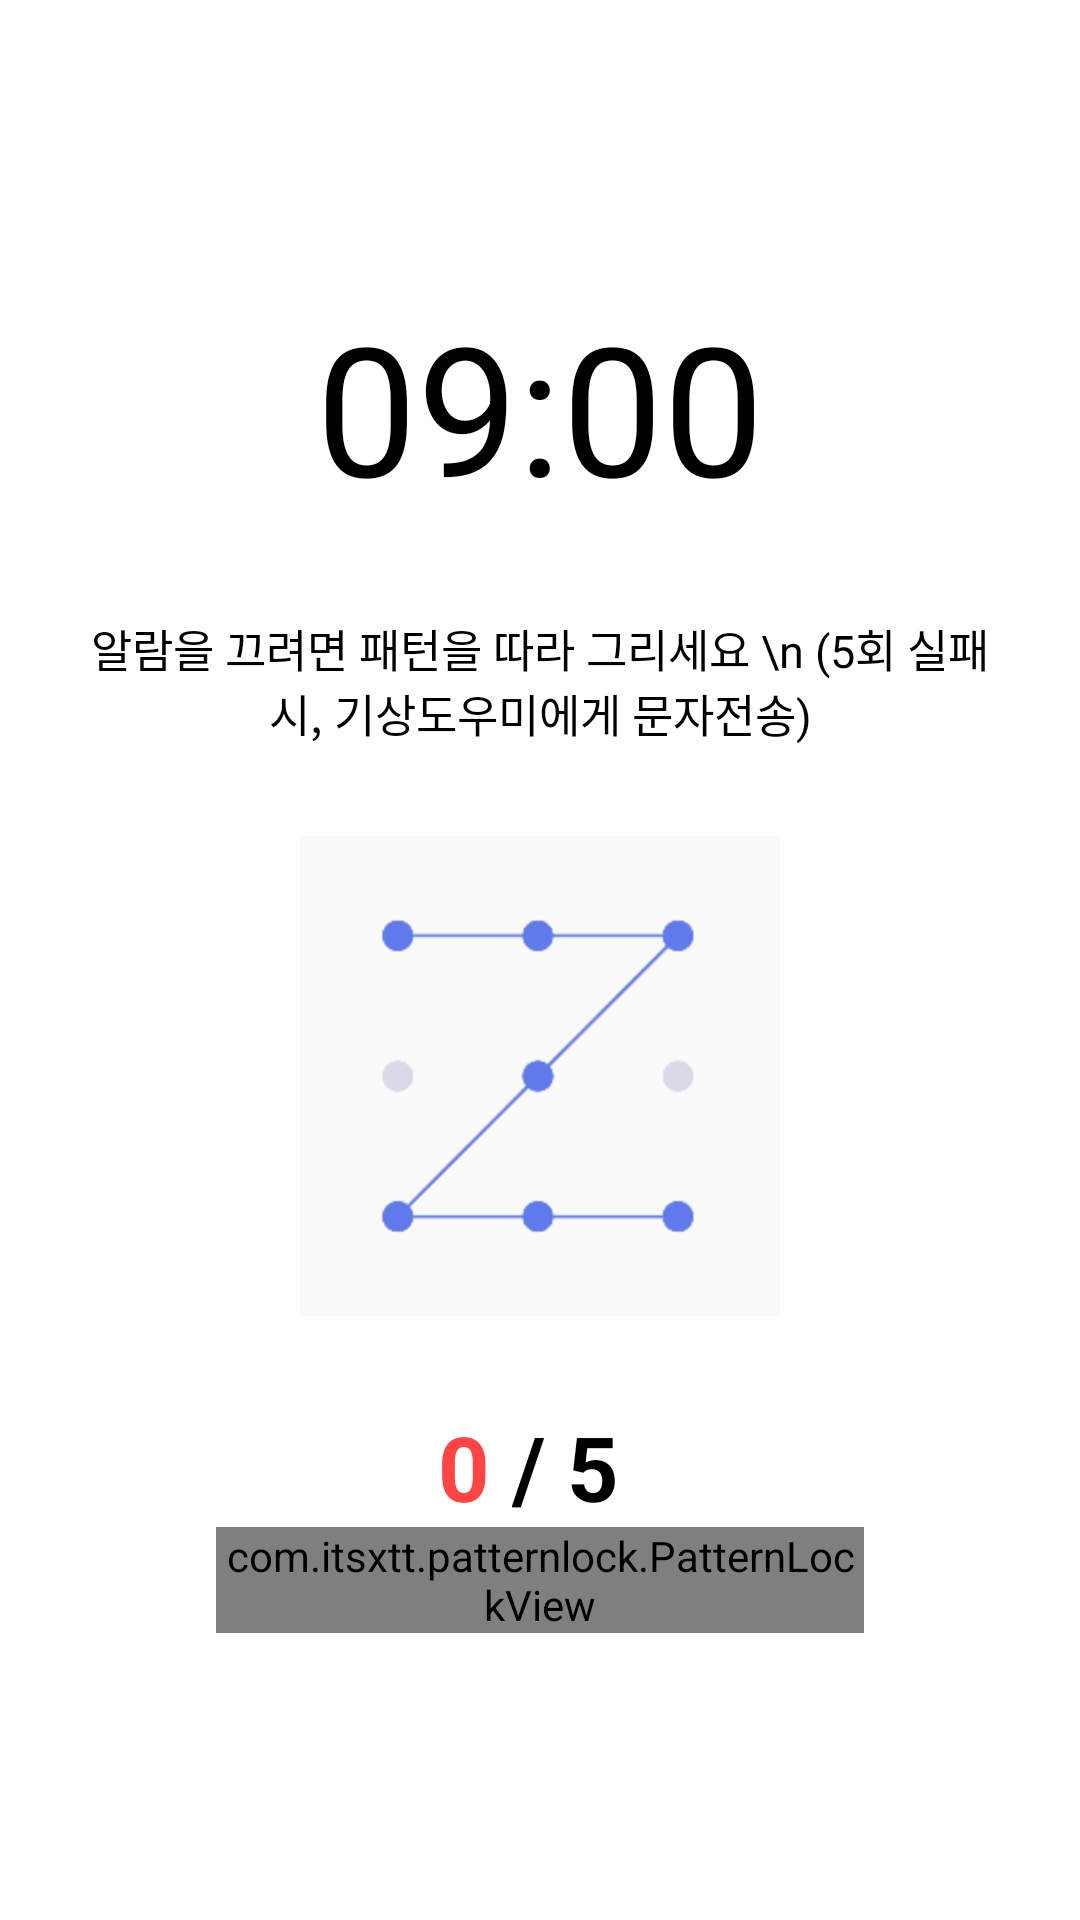

Icons on this 1080 × 1920 Android screen, each with the point to tap as point (x, y):
pat: point (538, 1076)
